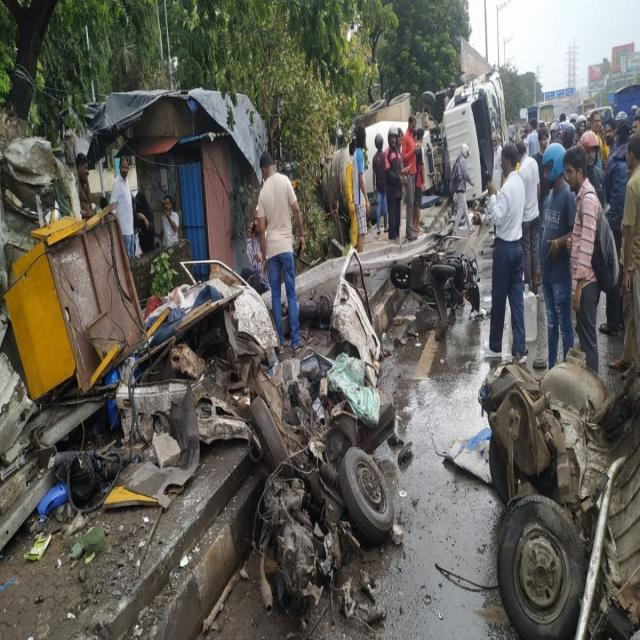accident: (358, 72, 509, 202), (390, 250, 480, 340)
